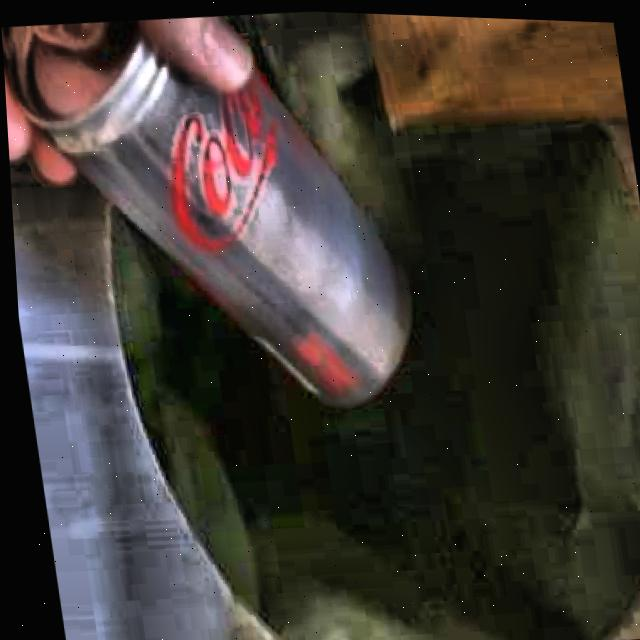metal: (4, 19, 402, 402)
